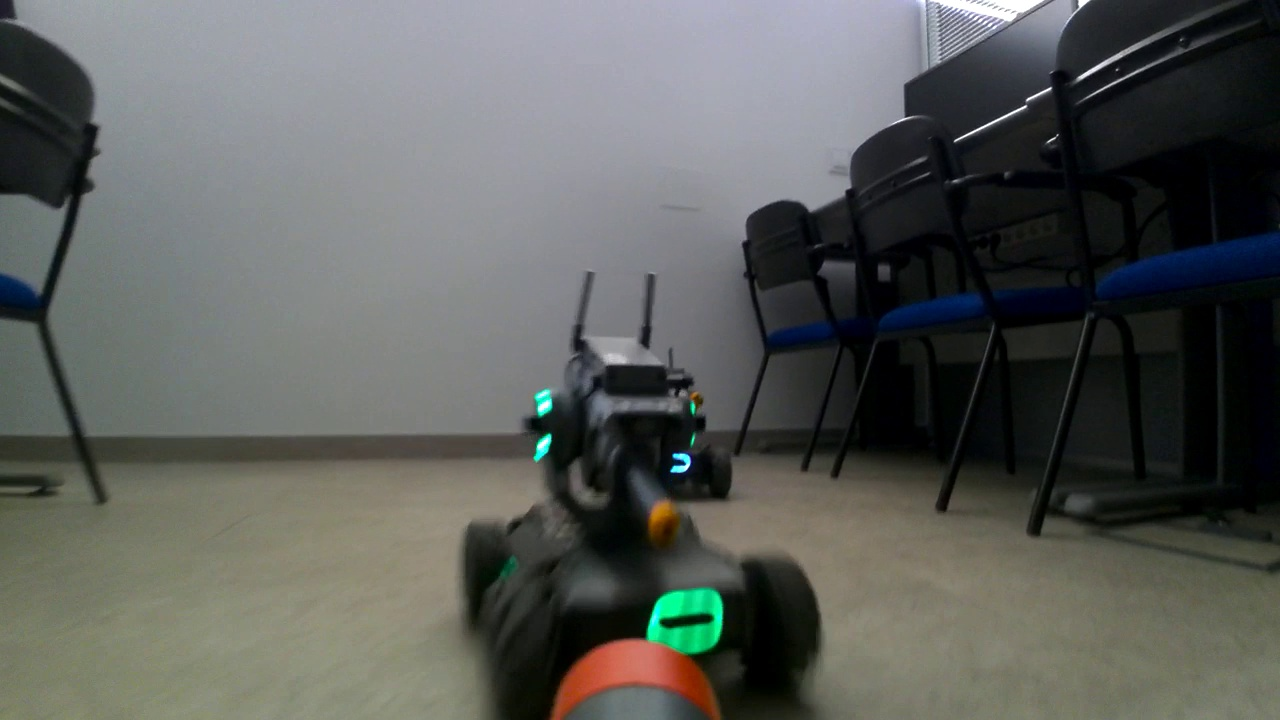robot: (460, 268, 823, 697)
